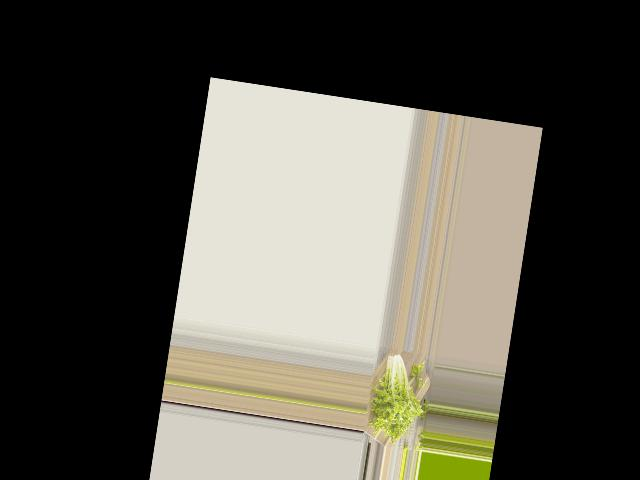lettuce: (365, 346, 430, 442)
